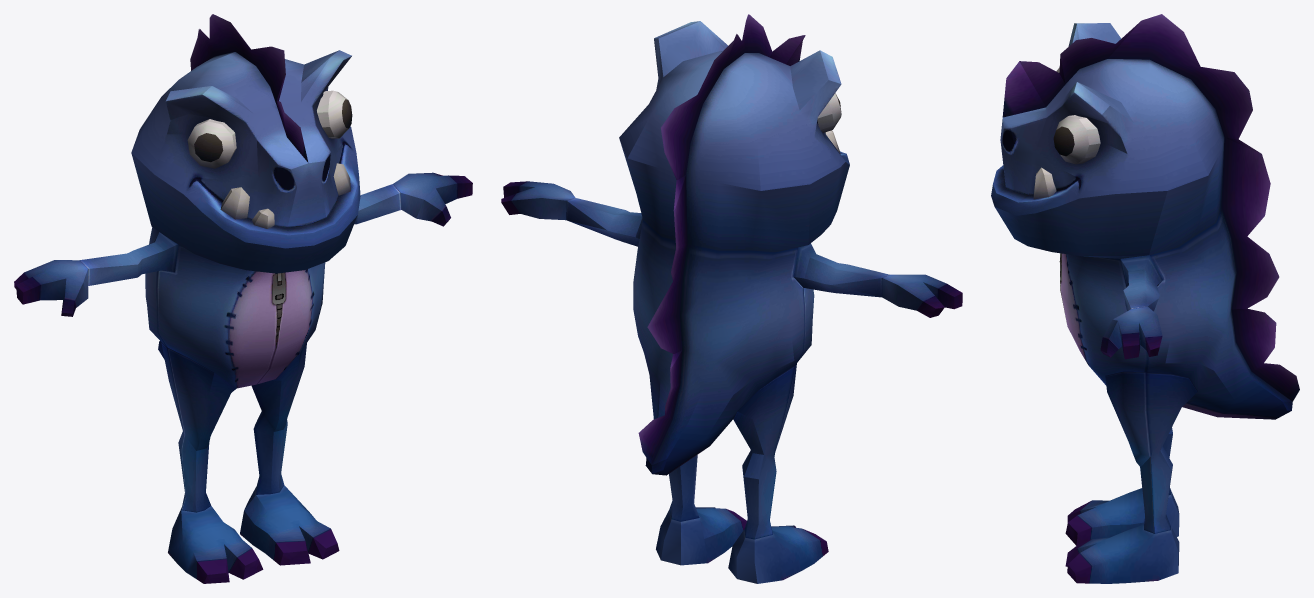
The model's file is dino2.obj.
3 renders of one model, left to right at view 1: azimuth 30°, elevation 25°; view 2: azimuth 150°, elevation 25°; view 3: azimuth 270°, elevation 25°, orthographic.
Visible parts, largest first — view 1: Dino; view 2: Dino; view 3: Dino.
Boxes of the visible parts, left/top/right/bottom form: Dino: left=14, top=14, right=472, bottom=583; Dino: left=501, top=14, right=962, bottom=583; Dino: left=991, top=14, right=1299, bottom=583.
Size of the model in its own units: 2.54 by 2.84 by 1.51.
